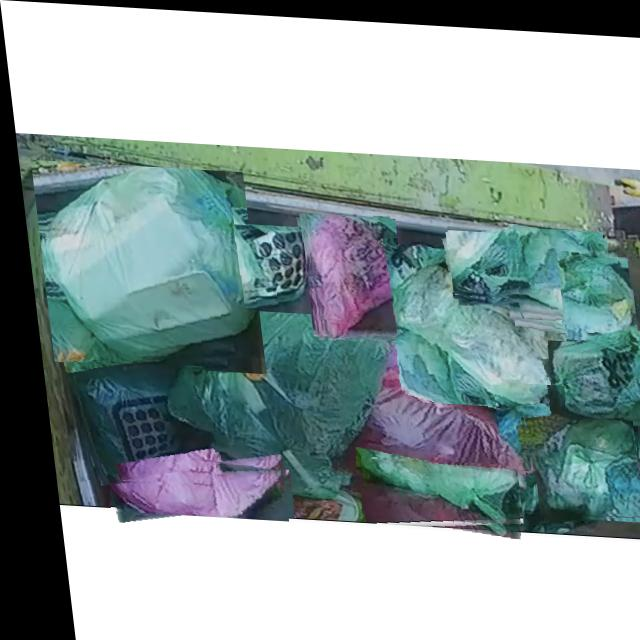general_trashbag: (39, 165, 250, 361), (387, 251, 571, 404), (58, 352, 202, 481), (351, 454, 507, 522), (520, 412, 624, 511), (509, 224, 603, 316), (545, 337, 640, 415), (555, 250, 628, 343), (489, 379, 558, 466), (231, 222, 301, 307), (582, 334, 640, 415), (449, 224, 510, 292)
other_trashbag: (326, 341, 515, 482), (305, 211, 396, 336), (96, 465, 271, 515)
